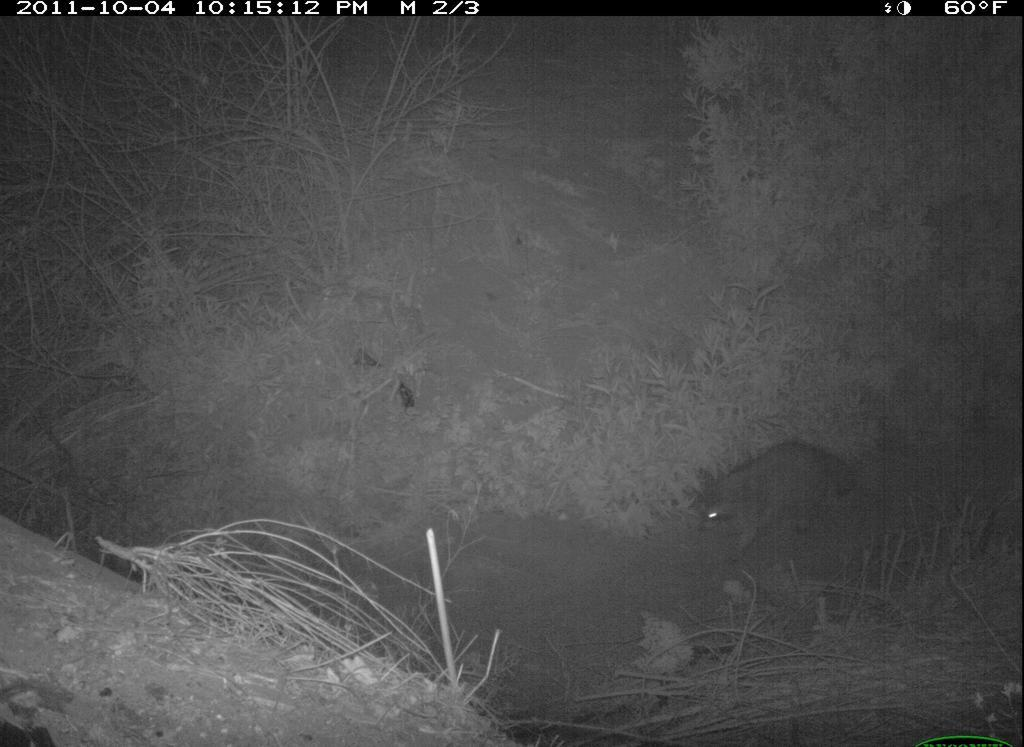raccoon: (685, 436, 862, 556)
